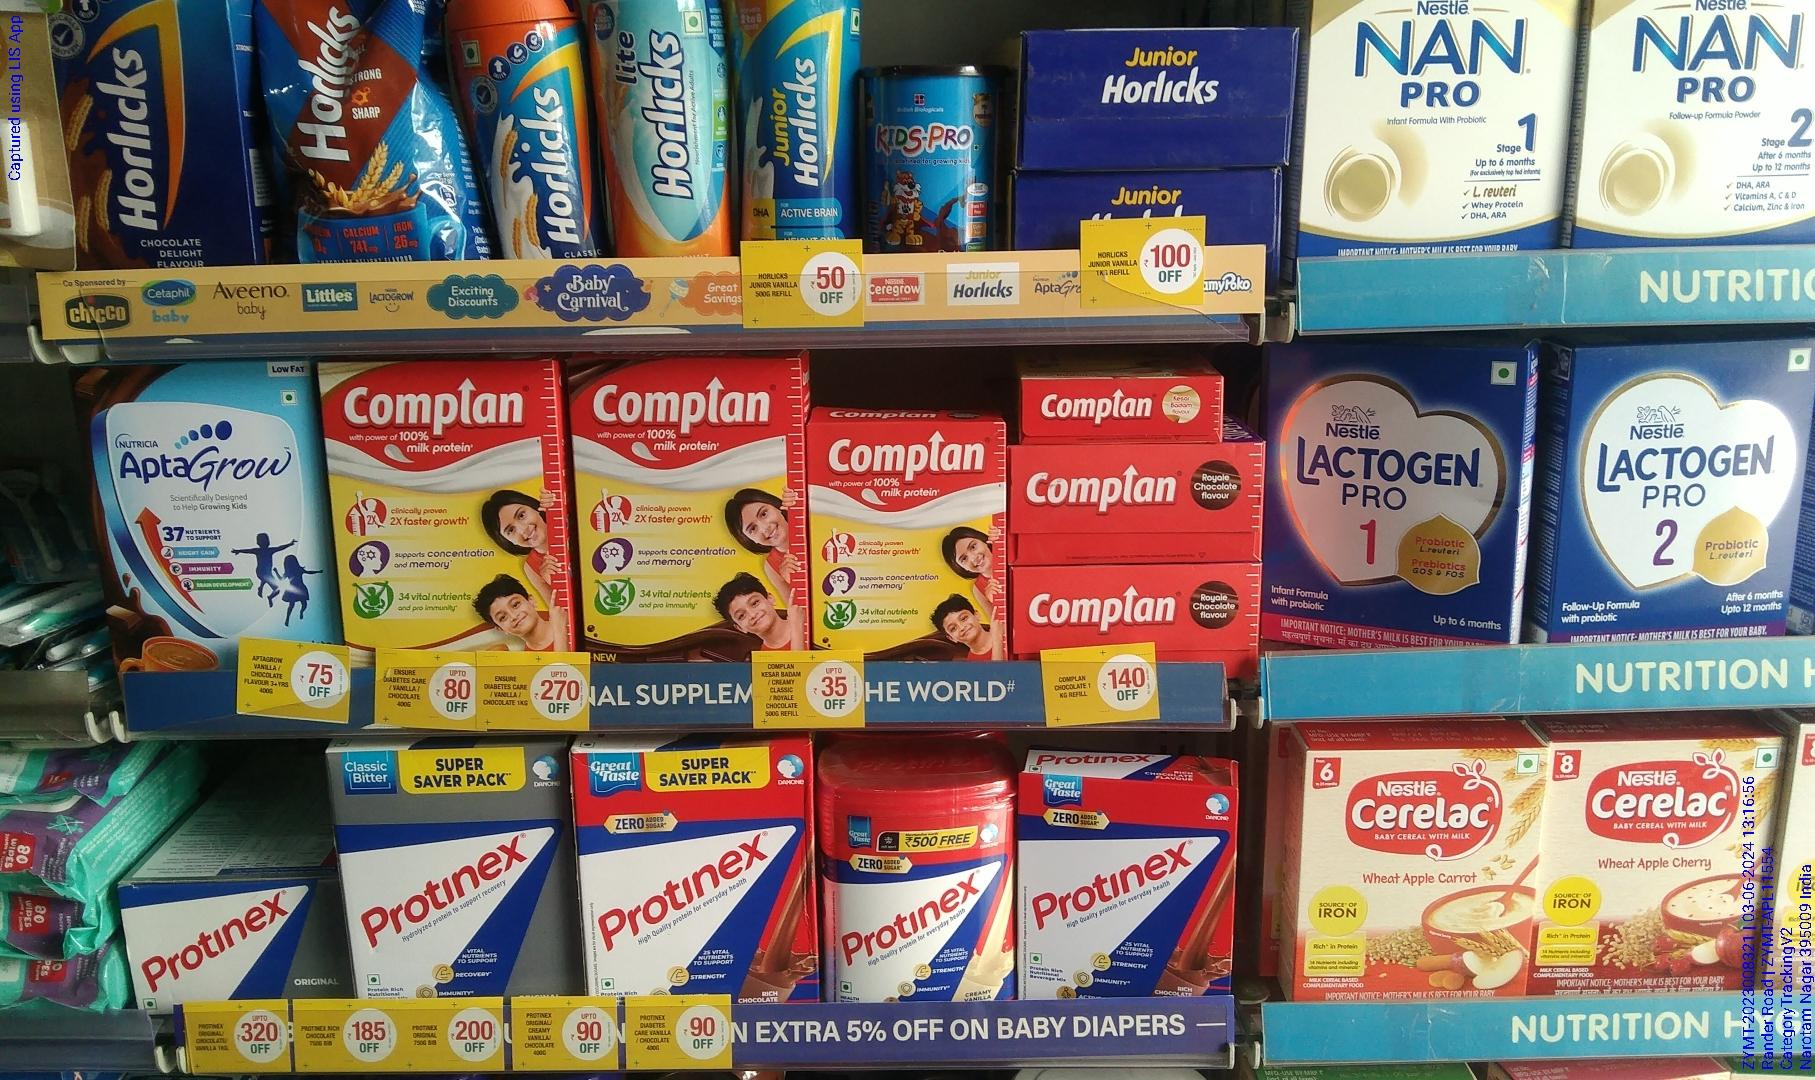COMPLAN_CHOCOLATE_200_GMS_PACK: (812, 415, 1012, 666)
HORLICKS_JUNIOR_VANILLA_500_GM_JAR: (739, 0, 852, 242)
HORLICKS_LITE_REGULAR_MALT_500_GM_JAR: (603, 0, 722, 255)
HORLICK_CLASSIC_MALT_500_G_JAR: (477, 0, 594, 265)
PROTINEX_VANILLA_400_G_JAR: (820, 760, 1014, 1007)
